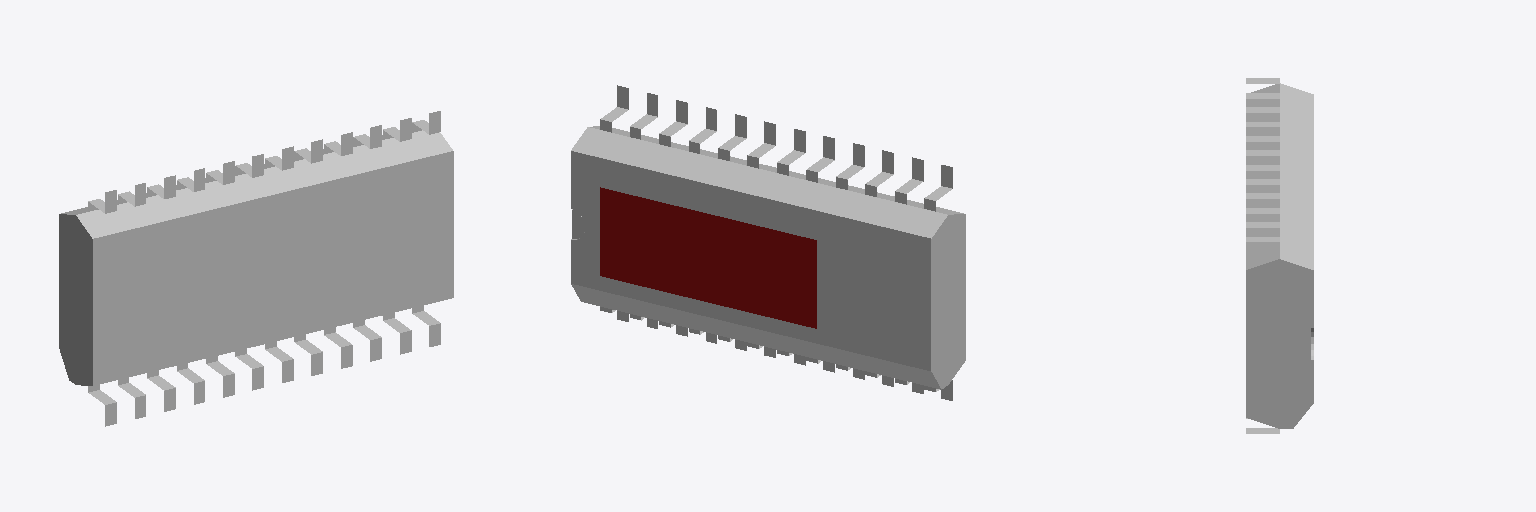
The picture shows the model from 3 angles: view 1: azimuth 30°, elevation 25°; view 2: azimuth 150°, elevation 25°; view 3: azimuth 270°, elevation 25°; orthographic projection.
Visible parts, largest first — view 1: ShapeIndexedFaceSet.017_ShapeIndexedFaceSet.018; view 2: ShapeIndexedFaceSet.017_ShapeIndexedFaceSet.018, ShapeIndexedFaceSet.026_ShapeIndexedFaceSet, ShapeIndexedFaceSet.007_ShapeIndexedFaceSet.008, ShapeIndexedFaceSet.001_ShapeIndexedFaceSet.002, ShapeIndexedFaceSet.011_ShapeIndexedFaceSet.012, ShapeIndexedFaceSet.009_ShapeIndexedFaceSet.010, ShapeIndexedFaceSet.004_ShapeIndexedFaceSet.005, ShapeIndexedFaceSet.003_ShapeIndexedFaceSet.004, ShapeIndexedFaceSet.002_ShapeIndexedFaceSet.003, ShapeIndexedFaceSet.006_ShapeIndexedFaceSet.007, ShapeIndexedFaceSet.005_ShapeIndexedFaceSet.006, ShapeIndexedFaceSet_ShapeIndexedFaceSet.001 (+2 smaller); view 3: ShapeIndexedFaceSet.017_ShapeIndexedFaceSet.018.
Part boxes in pixels (left/top/right/bottom): ShapeIndexedFaceSet.017_ShapeIndexedFaceSet.018: left=59, top=130, right=453, bottom=385; ShapeIndexedFaceSet.017_ShapeIndexedFaceSet.018: left=571, top=126, right=965, bottom=389; ShapeIndexedFaceSet.026_ShapeIndexedFaceSet: left=600, top=187, right=816, bottom=328; ShapeIndexedFaceSet.007_ShapeIndexedFaceSet.008: left=600, top=85, right=628, bottom=132; ShapeIndexedFaceSet.001_ShapeIndexedFaceSet.002: left=777, top=129, right=805, bottom=175; ShapeIndexedFaceSet.011_ShapeIndexedFaceSet.012: left=718, top=114, right=746, bottom=160; ShapeIndexedFaceSet.009_ShapeIndexedFaceSet.010: left=659, top=100, right=687, bottom=146; ShapeIndexedFaceSet.004_ShapeIndexedFaceSet.005: left=865, top=150, right=893, bottom=196; ShapeIndexedFaceSet.003_ShapeIndexedFaceSet.004: left=836, top=143, right=864, bottom=189; ShapeIndexedFaceSet.002_ShapeIndexedFaceSet.003: left=806, top=136, right=834, bottom=182; ShapeIndexedFaceSet.006_ShapeIndexedFaceSet.007: left=924, top=165, right=952, bottom=211; ShapeIndexedFaceSet.005_ShapeIndexedFaceSet.006: left=895, top=157, right=923, bottom=204; ShapeIndexedFaceSet_ShapeIndexedFaceSet.001: left=747, top=121, right=775, bottom=168; ShapeIndexedFaceSet.017_ShapeIndexedFaceSet.018: left=1246, top=83, right=1313, bottom=428.
Bounding box in the file's own units: 15.55 × 9.65 × 2.56.